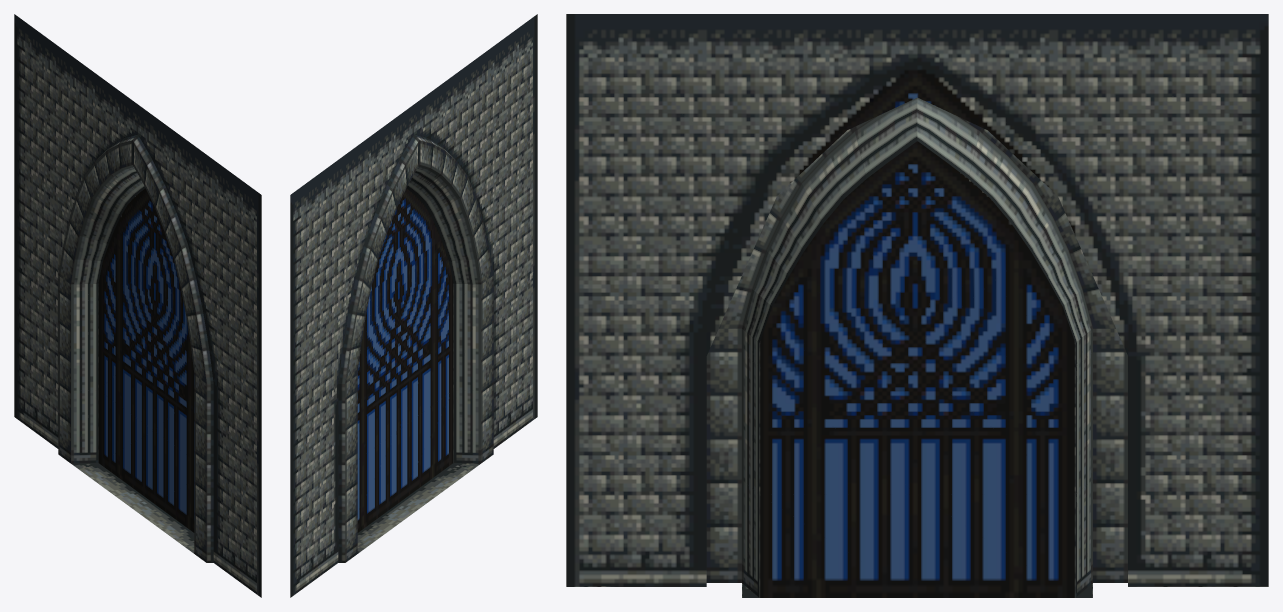
The model's file is ObjMD_Daiseido_Wall_F.FBX.
The picture shows the model from 3 angles, left to right: view 1: azimuth 30°, elevation 25°; view 2: azimuth 150°, elevation 25°; view 3: azimuth 270°, elevation 25°; orthographic projection. The views are drawn at different scales.
Visible parts, largest first — view 1: ObjMD_Daiseido_Wall_F; view 2: ObjMD_Daiseido_Wall_F; view 3: ObjMD_Daiseido_Wall_F.
Boxes of the visible parts, x1,y1,x2,y2 form: ObjMD_Daiseido_Wall_F: [14, 14, 261, 597]; ObjMD_Daiseido_Wall_F: [290, 14, 537, 597]; ObjMD_Daiseido_Wall_F: [566, 14, 1268, 597].
Bounding box in the file's own units: 50 × 900 × 1000.
